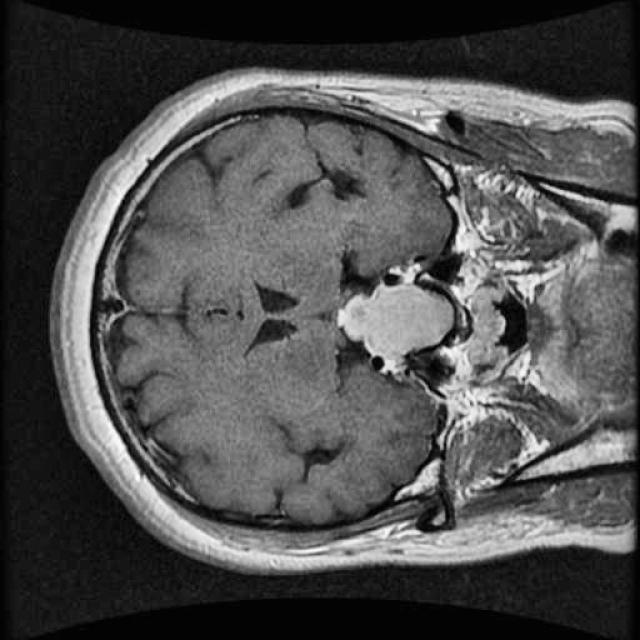Tumor: (328, 274, 461, 372)
